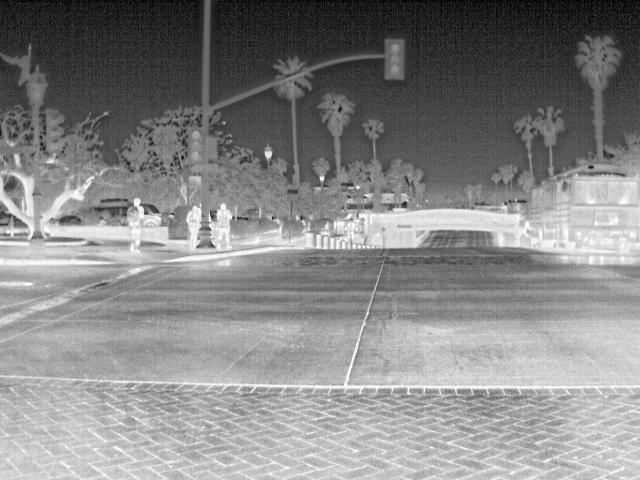car: (95, 204, 128, 227), (143, 203, 165, 228)
person: (214, 200, 236, 250), (126, 196, 144, 256), (184, 201, 205, 250), (344, 218, 359, 246)
